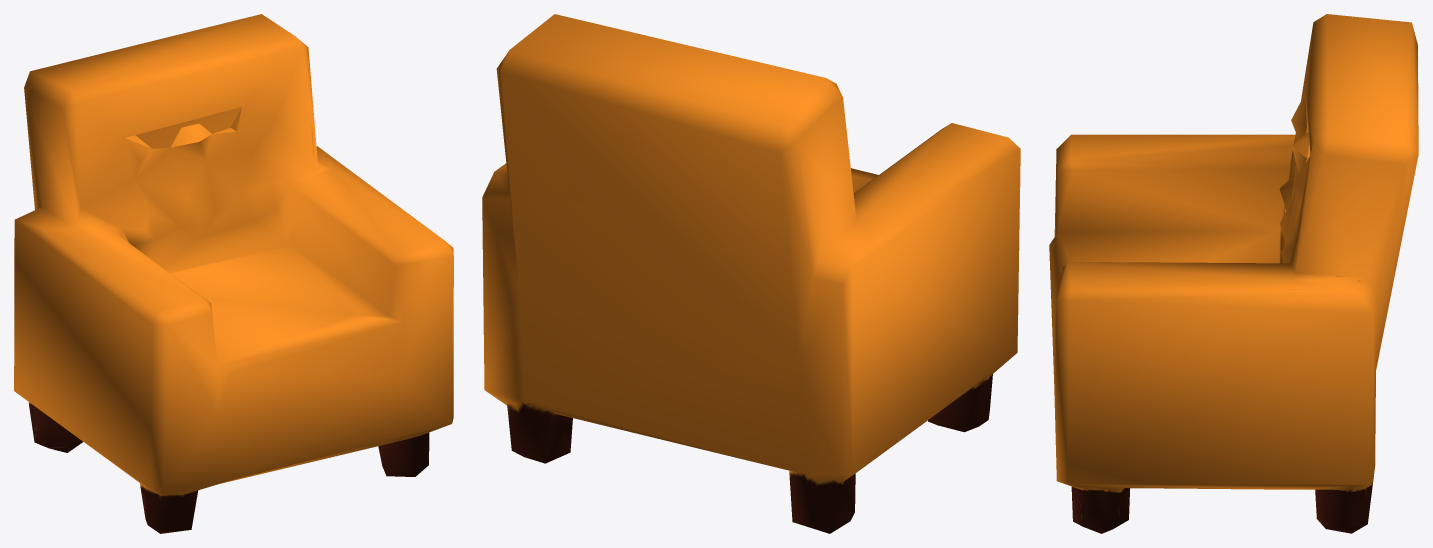
The model's file is mustard-armchair.glb.
The picture shows the model from 3 angles, left to right: view 1: azimuth 30°, elevation 25°; view 2: azimuth 150°, elevation 25°; view 3: azimuth 270°, elevation 25°; orthographic projection. The views are drawn at different scales.
Visible parts, largest first — view 1: geometry_0.001; view 2: geometry_0.001; view 3: geometry_0.001.
Part boxes in pixels (left/top/right/bottom): geometry_0.001: left=14, top=14, right=453, bottom=533; geometry_0.001: left=482, top=14, right=1020, bottom=533; geometry_0.001: left=1049, top=14, right=1418, bottom=533.
Bounding box in the file's own units: 0.8763 × 1 × 0.8518.
Materials: 1 (1 with a texture image).
